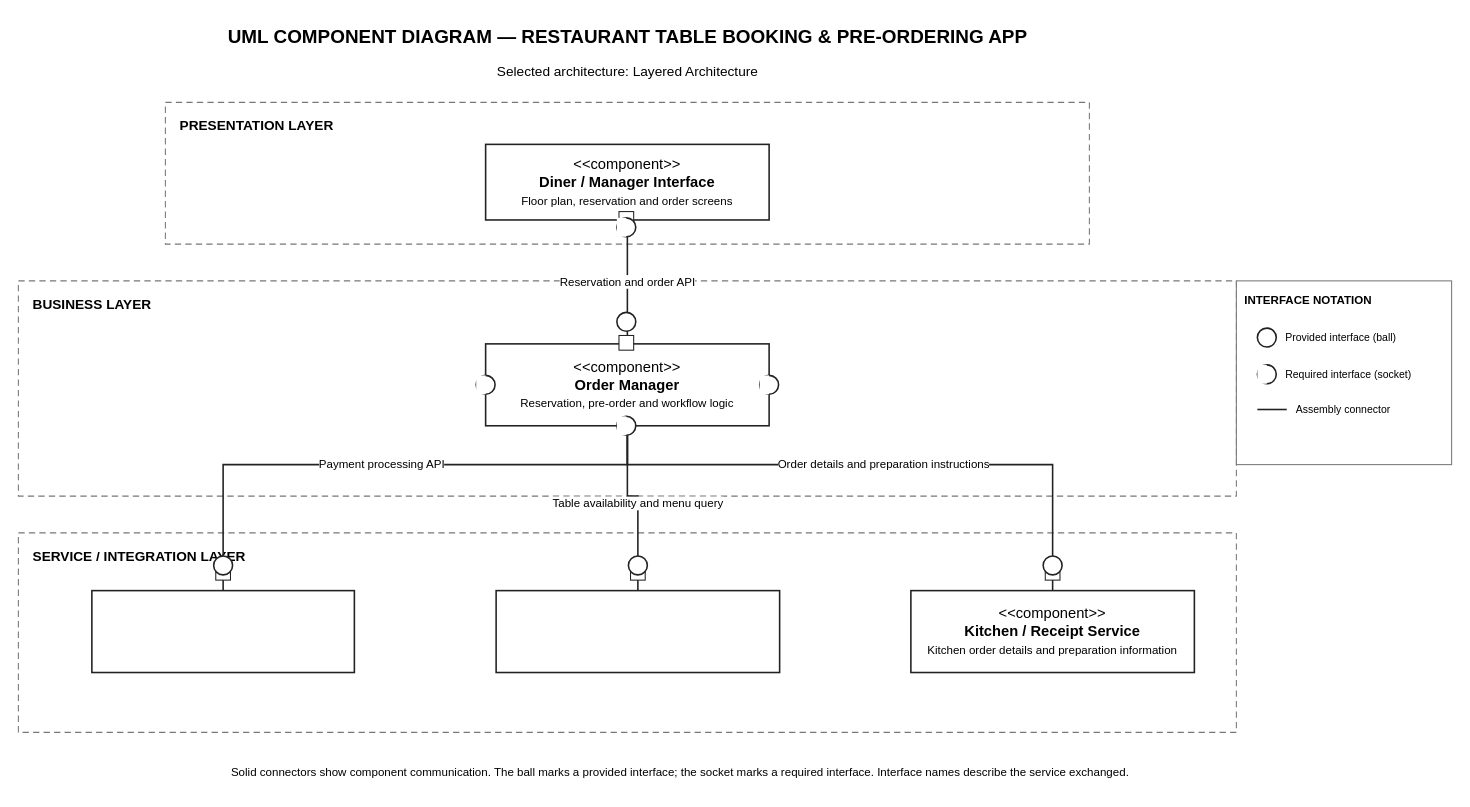
This 1470x807 diagram has some shape labels left out. The shapes that lost their labels are listed below. From the top down, each one's centre as x and y in pixels, then its label:
[223,631]: <<component>> Payment Service Payment request and result handling
[637,631]: <<component>> Table & Menu Service Availability, floor plan and menu data
